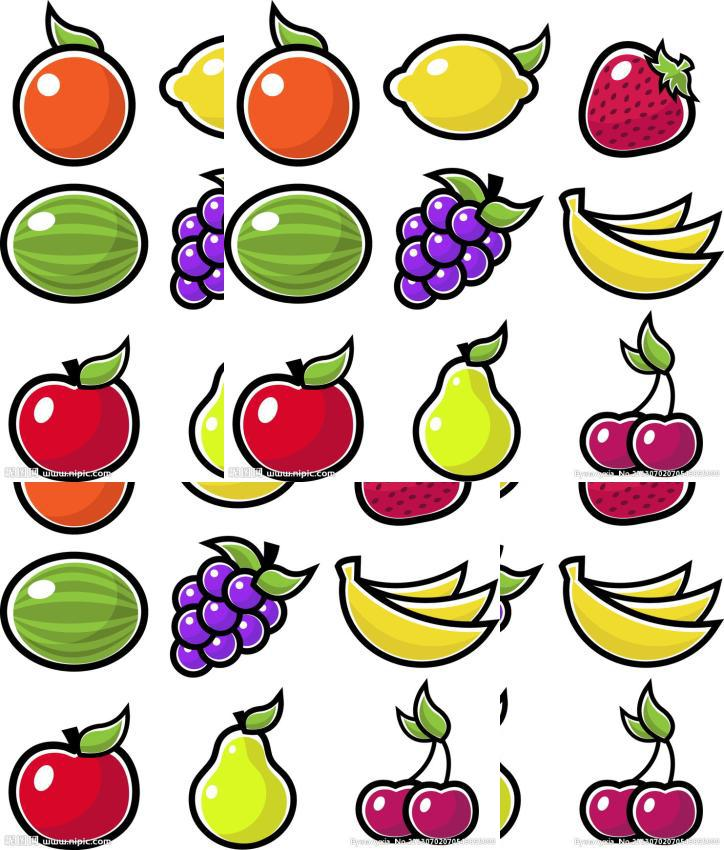fruit1: (233, 0, 361, 167), (10, 1, 137, 167), (9, 481, 137, 535)
fruit2: (381, 158, 547, 309), (157, 526, 323, 677), (158, 158, 224, 310), (499, 526, 547, 677)
fruit3: (555, 180, 724, 301), (331, 548, 500, 669), (555, 548, 724, 669)
fruitn: (570, 306, 706, 476), (346, 674, 482, 844), (570, 674, 706, 844)
